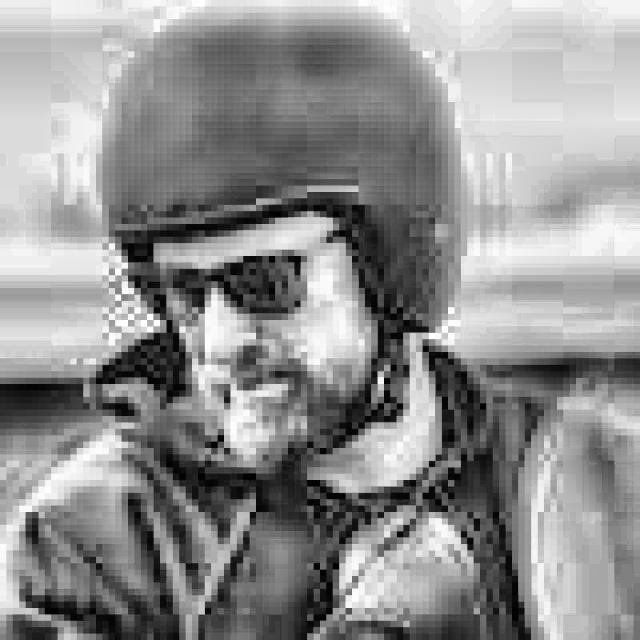Helmet: (75, 0, 476, 475)
